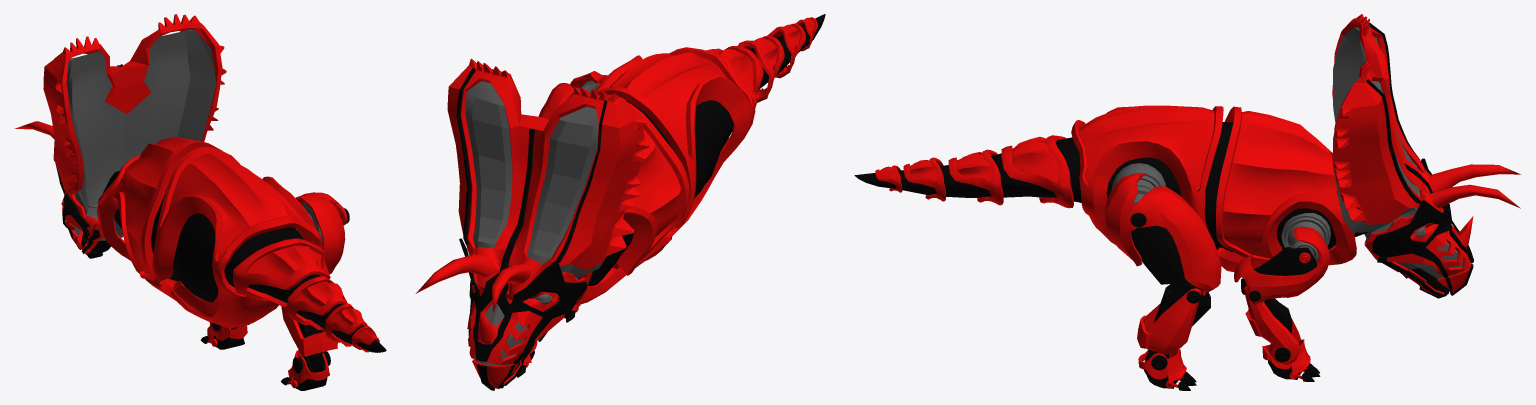
File: PentaFinalModel.fbx
3 renders of one model, left to right at view 1: azimuth 30°, elevation 25°; view 2: azimuth 150°, elevation 25°; view 3: azimuth 270°, elevation 25°, orthographic. The views are drawn at different scales.
Visible parts, largest first — view 1: Head_1, BodyArmor_2, Head_2, BodyArmor_1, innerBody, Tail_1, Tail_2, R_Back_Leg_UpperBackCover, R_Back_Leg_Cover, Tail_3, Head_3, R_Back_Leg_Ankle_Cover (+6 smaller); view 2: Head_2, Head_1, BodyArmor_2, Head_3, BodyArmor_1, innerBody, Tail_1, Tail_2, Tail_3, R_Back_Upper_Leg_FrontCover, Jaw_Cover; view 3: Head_2, BodyArmor_1, BodyArmor_2, innerBody, Head_3, R_Back_Upper_Leg_FrontCover, Head_1, Tail_1, R_Front_Leg_UpperCover, R_Back_Leg_Cover, R_Back_Leg_Upper1, R_Back_Leg_UpperBackCover (+10 smaller).
Part boxes in pixels (left/top/right/bottom): Head_1: left=66, top=29, right=216, bottom=241; BodyArmor_2: left=152, top=146, right=322, bottom=328; Head_2: left=14, top=14, right=226, bottom=235; BodyArmor_1: left=97, top=137, right=222, bottom=300; innerBody: left=102, top=170, right=386, bottom=352; Tail_1: left=232, top=238, right=330, bottom=306; Tail_2: left=287, top=276, right=347, bottom=329; R_Back_Leg_UpperBackCover: left=299, top=193, right=345, bottom=274; R_Back_Leg_Cover: left=281, top=306, right=337, bottom=356; Tail_3: left=325, top=303, right=367, bottom=346; Head_3: left=54, top=52, right=122, bottom=258; R_Back_Leg_Ankle_Cover: left=288, top=350, right=329, bottom=383; Head_2: left=415, top=58, right=649, bottom=364; Head_1: left=465, top=81, right=601, bottom=365; BodyArmor_2: left=595, top=47, right=755, bottom=260; Head_3: left=456, top=68, right=607, bottom=390; BodyArmor_1: left=574, top=94, right=689, bottom=305; innerBody: left=577, top=14, right=825, bottom=286; Tail_1: left=706, top=46, right=763, bottom=109; Tail_2: left=738, top=36, right=784, bottom=102; Tail_3: left=767, top=23, right=805, bottom=78; R_Back_Upper_Leg_FrontCover: left=538, top=83, right=574, bottom=119; Jaw_Cover: left=472, top=338, right=539, bottom=388; Head_2: left=1332, top=14, right=1520, bottom=276; BodyArmor_1: left=1216, top=106, right=1356, bottom=271; BodyArmor_2: left=1071, top=105, right=1223, bottom=244; innerBody: left=854, top=122, right=1367, bottom=252; Head_3: left=1366, top=22, right=1473, bottom=298; R_Back_Upper_Leg_FrontCover: left=1128, top=186, right=1221, bottom=292; Head_1: left=1333, top=27, right=1463, bottom=278; Tail_1: left=1001, top=135, right=1073, bottom=208; R_Front_Leg_UpperCover: left=1234, top=226, right=1329, bottom=304; R_Back_Leg_Cover: left=1137, top=288, right=1201, bottom=354; R_Back_Leg_Upper1: left=1131, top=225, right=1203, bottom=292; R_Back_Leg_UpperBackCover: left=1104, top=173, right=1145, bottom=266.
Size of the model in its own units: 209 by 321 by 641.
